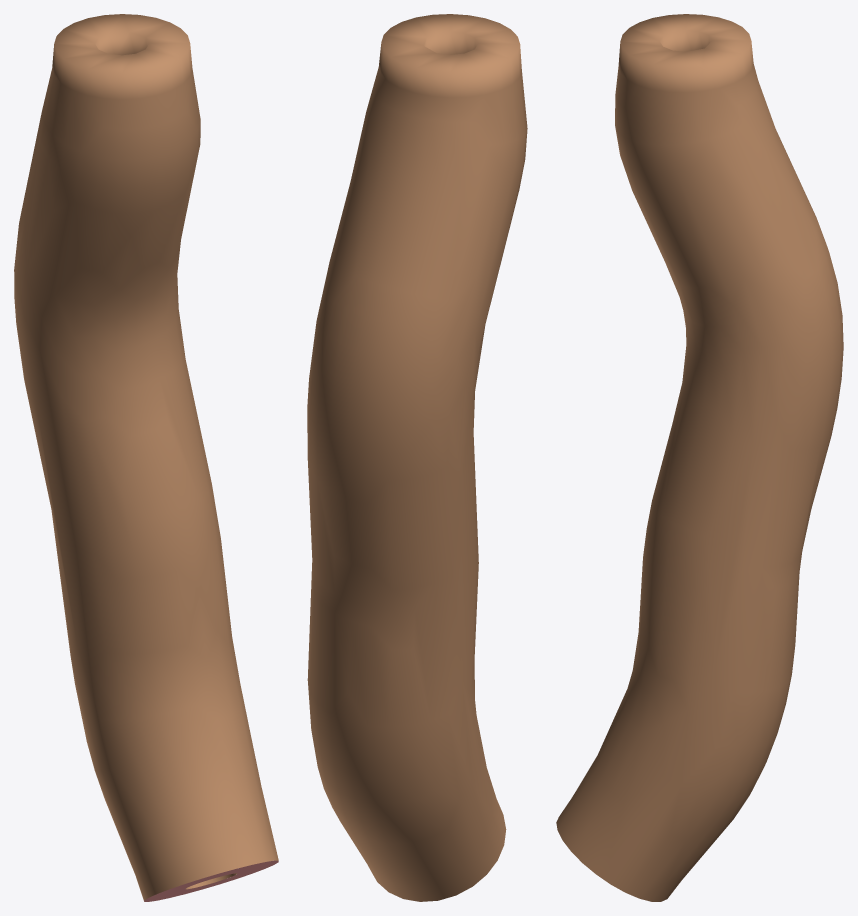
File: urethra.glb
3 views of the same model, side by side, from view 1: azimuth 30°, elevation 25°; view 2: azimuth 150°, elevation 25°; view 3: azimuth 270°, elevation 25° (orthographic). The views are drawn at different scales.
Visible parts, largest first — view 1: u1, u0; view 2: u1; view 3: u1.
Part boxes in pixels (x1,y1,x2,y2): u1: [14, 14, 278, 901]; u0: [144, 860, 278, 901]; u1: [307, 14, 527, 901]; u1: [556, 14, 843, 901].
Bounding box in the file's own units: 0.795 × 3.48 × 1.1.
